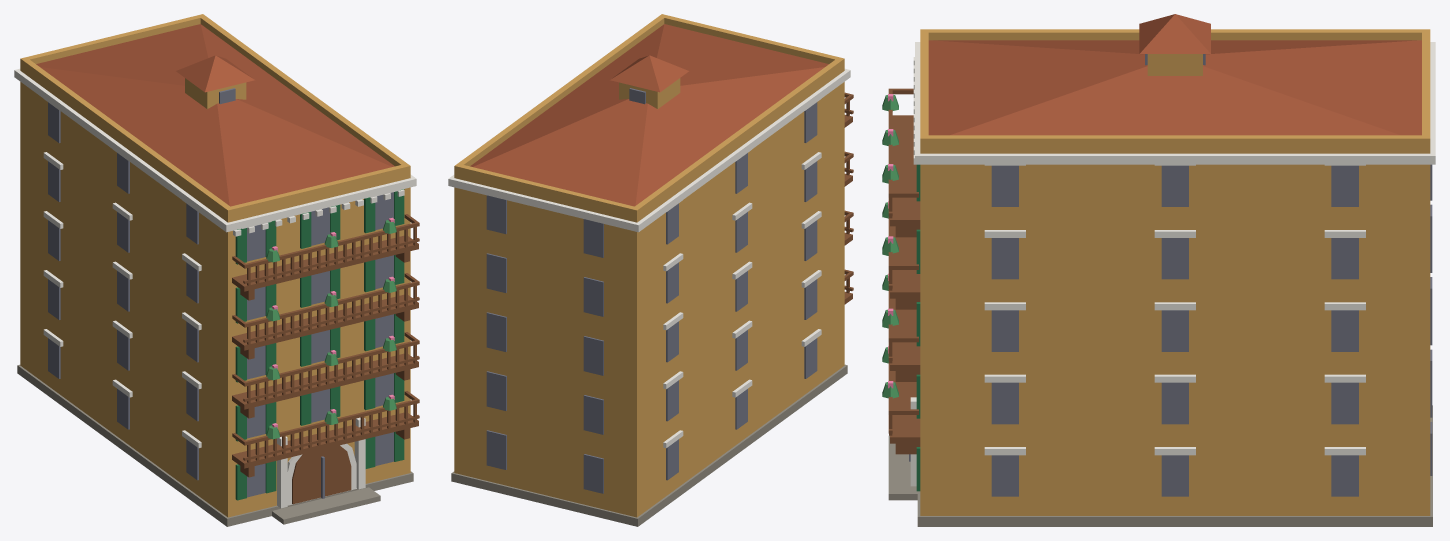
The model's file is house-1x2-5f-colonial-a.glb.
3 views of the same model, side by side, from view 1: azimuth 30°, elevation 25°; view 2: azimuth 150°, elevation 25°; view 3: azimuth 270°, elevation 25° (orthographic). The views are drawn at different scales.
Parts seen in each view (by area): view 1: house-1x2-5f-colonial-a; view 2: house-1x2-5f-colonial-a; view 3: house-1x2-5f-colonial-a.
Boxes of the visible parts, bbox=[...] form: house-1x2-5f-colonial-a: bbox=[14, 14, 419, 526]; house-1x2-5f-colonial-a: bbox=[448, 14, 853, 526]; house-1x2-5f-colonial-a: bbox=[882, 14, 1435, 526].
Bounding box in the file's own units: 0.98 × 1.83 × 2.01.
1 material, 1 textured.
